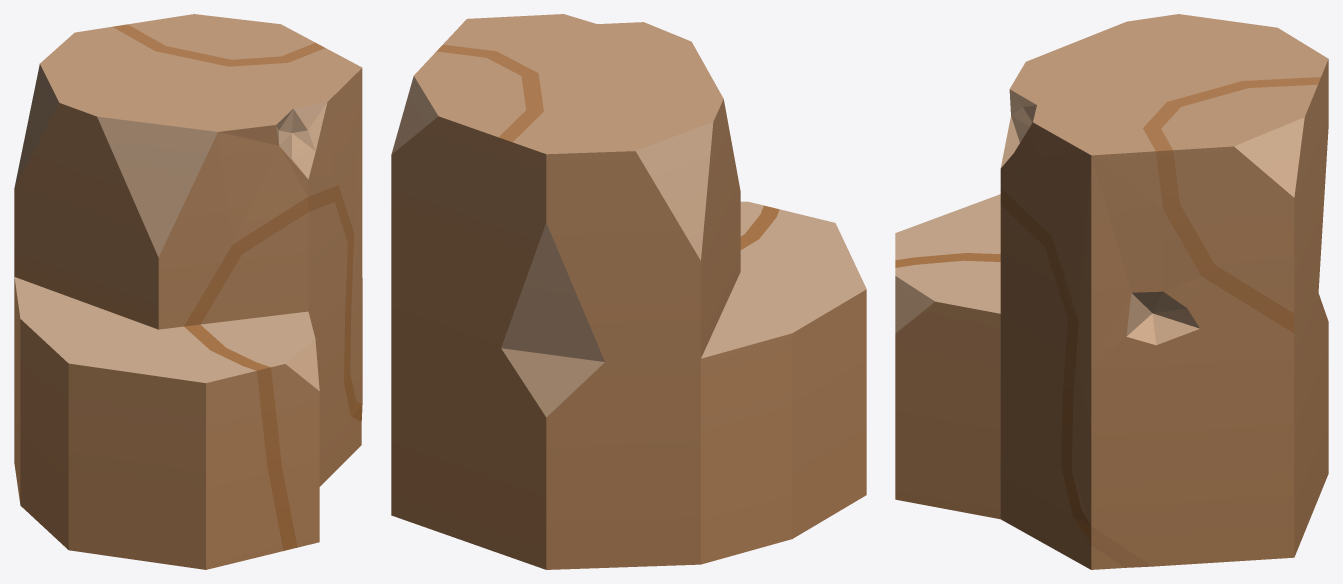
The model's file is ancient-stone-8.glb.
3 views of the same model, side by side, from view 1: azimuth 30°, elevation 25°; view 2: azimuth 150°, elevation 25°; view 3: azimuth 270°, elevation 25° (orthographic). The views are drawn at different scales.
Parts seen in each view (by area): view 1: ancient stone 8; view 2: ancient stone 8; view 3: ancient stone 8.
Boxes of the visible parts, x1,y1,x2,y2 form: ancient stone 8: [14, 14, 362, 569]; ancient stone 8: [391, 14, 866, 569]; ancient stone 8: [895, 14, 1328, 569].
Bounding box in the file's own units: 1.91 × 2.1 × 1.99.
Materials: 1 (1 with a texture image).
